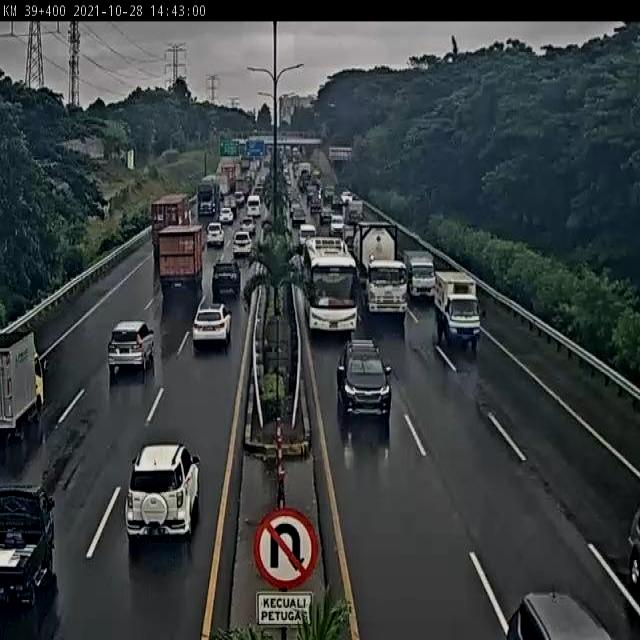Bus: (301, 237, 360, 338)
Car: (125, 440, 201, 541), (336, 337, 393, 418), (108, 319, 155, 374), (192, 303, 232, 352), (212, 260, 242, 300), (232, 230, 253, 258), (206, 222, 225, 247), (330, 214, 346, 236), (290, 204, 306, 226), (240, 216, 256, 237), (310, 195, 322, 218), (306, 185, 319, 206), (219, 207, 234, 224), (331, 193, 344, 212), (321, 205, 333, 224), (234, 191, 245, 207), (227, 196, 237, 213), (341, 191, 353, 204)
Truck: (0, 484, 57, 607), (356, 225, 408, 324), (0, 332, 46, 442), (434, 270, 482, 350), (156, 224, 204, 295), (151, 194, 191, 259), (403, 249, 435, 301), (197, 177, 220, 220), (220, 162, 238, 196), (345, 198, 364, 226), (296, 162, 312, 185), (344, 229, 356, 255)
Van: (298, 224, 316, 249), (246, 195, 261, 218)
